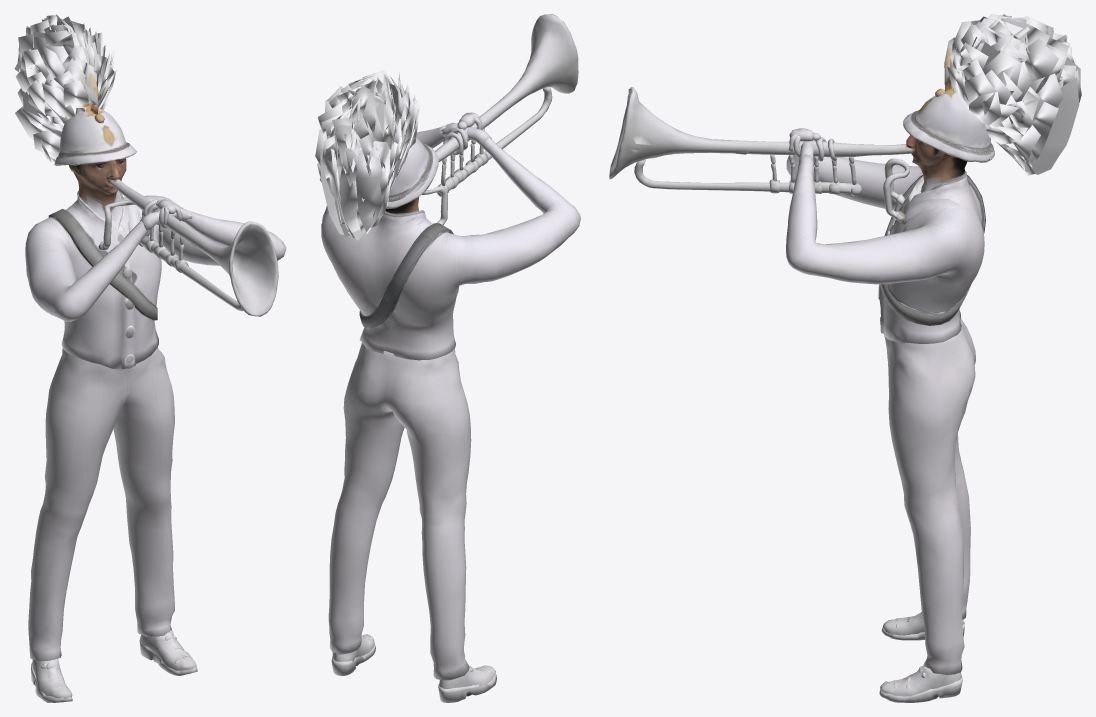
Rendered from posed-baritone-man.glb.
The picture shows the model from 3 angles, left to right: view 1: azimuth 30°, elevation 25°; view 2: azimuth 150°, elevation 25°; view 3: azimuth 270°, elevation 25°; orthographic projection. The views are drawn at different scales.
Size of the model in its own units: 0.3798 by 1 by 0.6617.
Materials: 1 (1 with a texture image).
